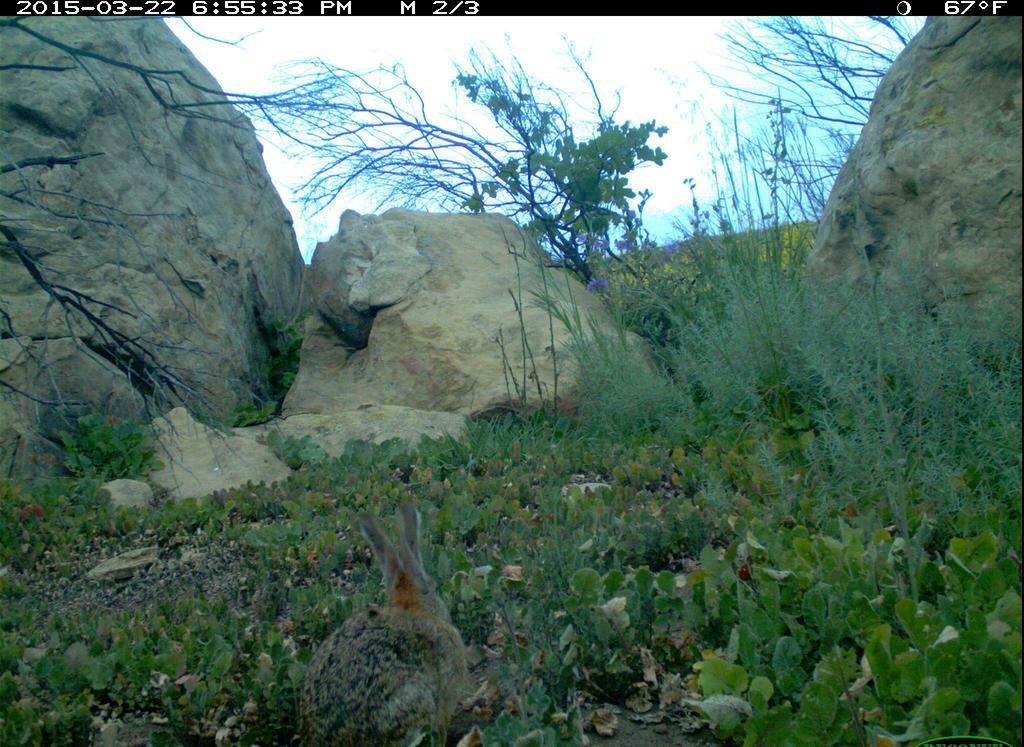rabbit: (295, 496, 489, 747)
